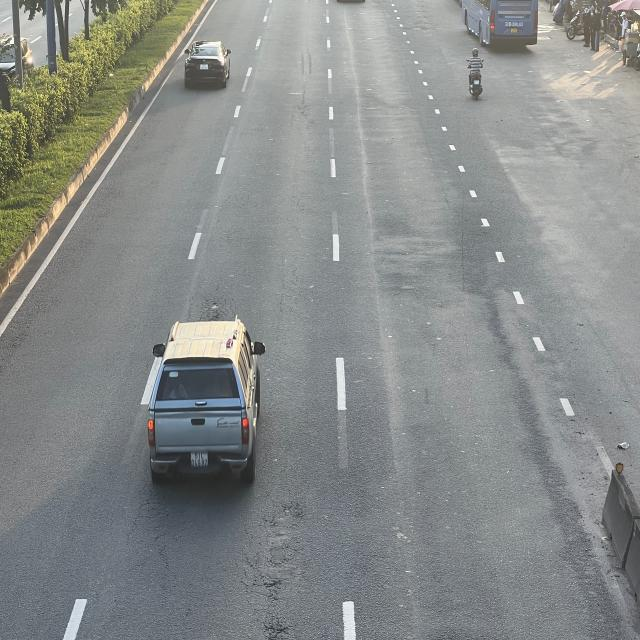car: (143, 319, 265, 493), (185, 42, 233, 89)
coach: (452, 1, 540, 48)
